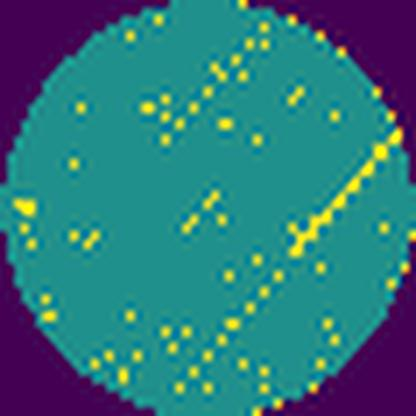Scratch: (281, 127, 405, 265), (167, 267, 284, 407)
